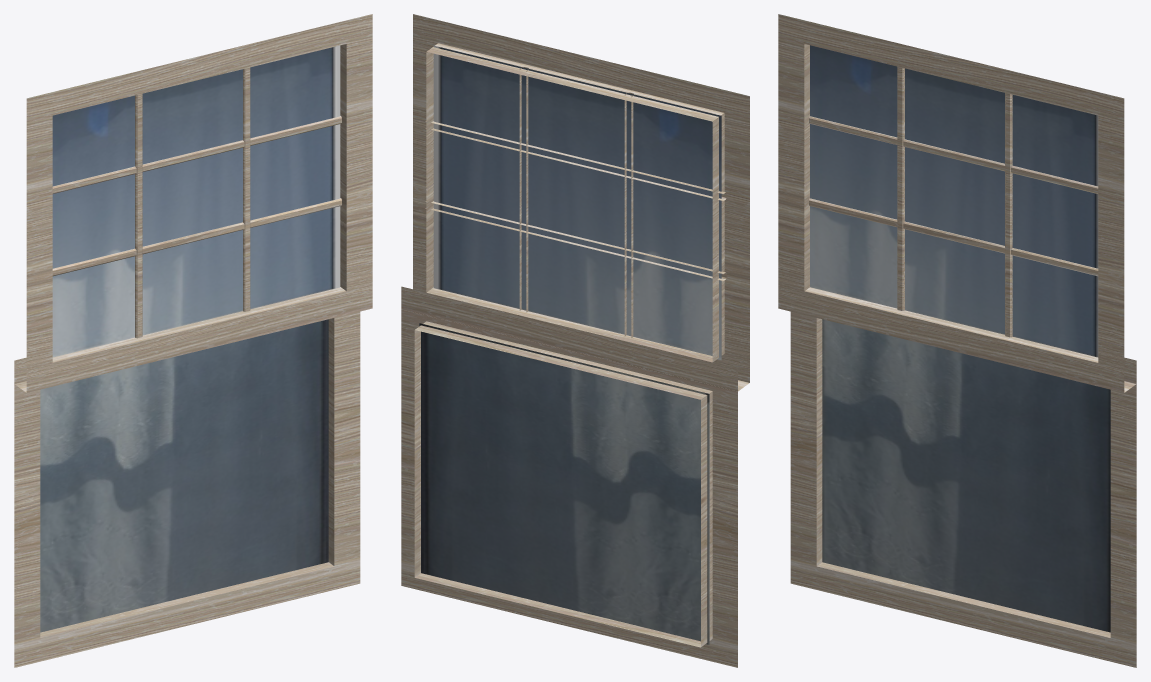
File: FLAT_opaqueWindow_01.FBX
3 views of the same model, side by side, from view 1: azimuth 30°, elevation 25°; view 2: azimuth 150°, elevation 25°; view 3: azimuth 330°, elevation 25° (orthographic). The views are drawn at different scales.
Visible parts, largest first — view 1: FLAT_opaqueWindow_01_glass, FLAT_opaqueWindow_01_base; view 2: FLAT_opaqueWindow_01_glass, FLAT_opaqueWindow_01_base; view 3: FLAT_opaqueWindow_01_glass, FLAT_opaqueWindow_01_base.
Part boxes in pixels (x1=…): FLAT_opaqueWindow_01_glass: x1=40, y1=45, x2=340, y2=632; FLAT_opaqueWindow_01_base: x1=14, y1=14, x2=372, y2=667; FLAT_opaqueWindow_01_glass: x1=419, y1=45, x2=721, y2=644; FLAT_opaqueWindow_01_base: x1=401, y1=14, x2=749, y2=667; FLAT_opaqueWindow_01_glass: x1=810, y1=45, x2=1110, y2=632; FLAT_opaqueWindow_01_base: x1=778, y1=14, x2=1136, y2=667.
Bounding box in the file's own units: 155 × 247 × 18.83.
Materials: 2 (2 with a texture image).
